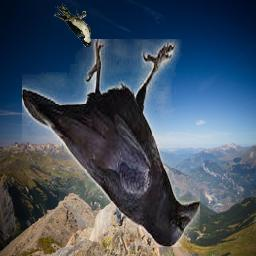Crow: (22, 39, 200, 247)
Swallow: (55, 3, 92, 47)
